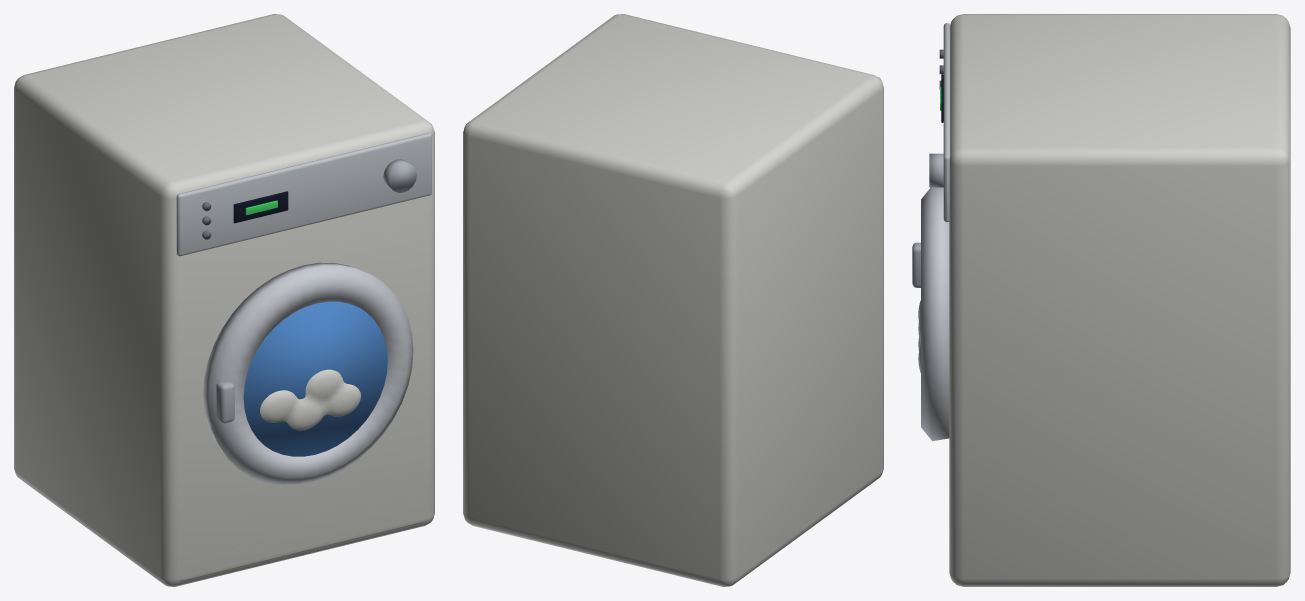
File: washer.glb
The picture shows the model from 3 angles, left to right: view 1: azimuth 30°, elevation 25°; view 2: azimuth 150°, elevation 25°; view 3: azimuth 270°, elevation 25°; orthographic projection. The views are drawn at different scales.
Visible parts, largest first — view 1: washer; view 2: washer; view 3: washer.
Boxes of the visible parts, x1,y1,x2,y2 form: washer: (14, 14, 434, 586); washer: (463, 14, 883, 586); washer: (912, 14, 1290, 586).
Bounding box in the file's own units: 0.6 × 0.85 × 0.665.
